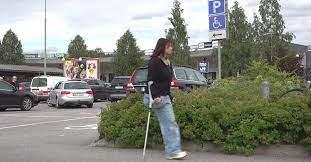crutches: (142, 38, 187, 162)
